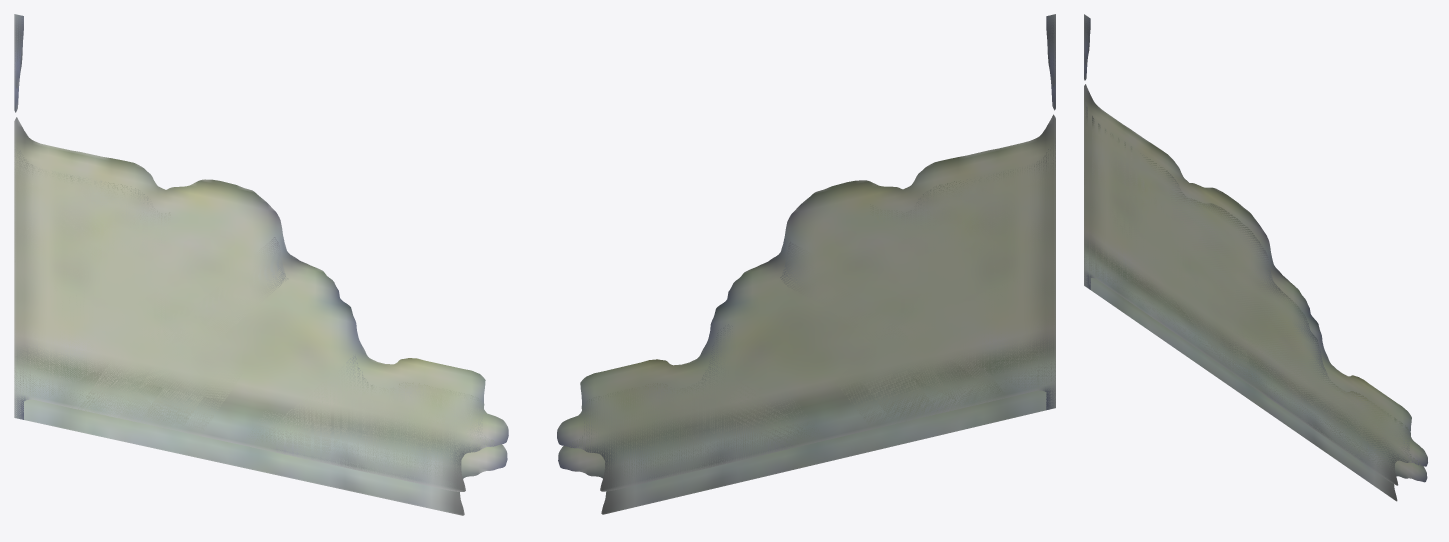
The model's file is 人民英雄纪念碑53.dae.
3 views of the same model, side by side, from view 1: azimuth 30°, elevation 25°; view 2: azimuth 150°, elevation 25°; view 3: azimuth 330°, elevation 25° (orthographic). The views are drawn at different scales.
Parts seen in each view (by area): view 1: SketchUp; view 2: SketchUp; view 3: SketchUp.
Part boxes in pixels (x1=…): SketchUp: x1=14, y1=14, x2=508, y2=515; SketchUp: x1=557, y1=14, x2=1055, y2=514; SketchUp: x1=1084, y1=14, x2=1427, y2=501.
Bounding box in the file's own units: 73.23 × 2.17 × 88.09.
